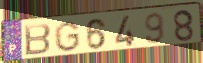4: (114, 13, 138, 48)
6: (86, 17, 107, 51)
8: (173, 8, 195, 42)
9: (143, 11, 166, 45)
B: (23, 22, 53, 57)
G: (53, 20, 82, 53)
